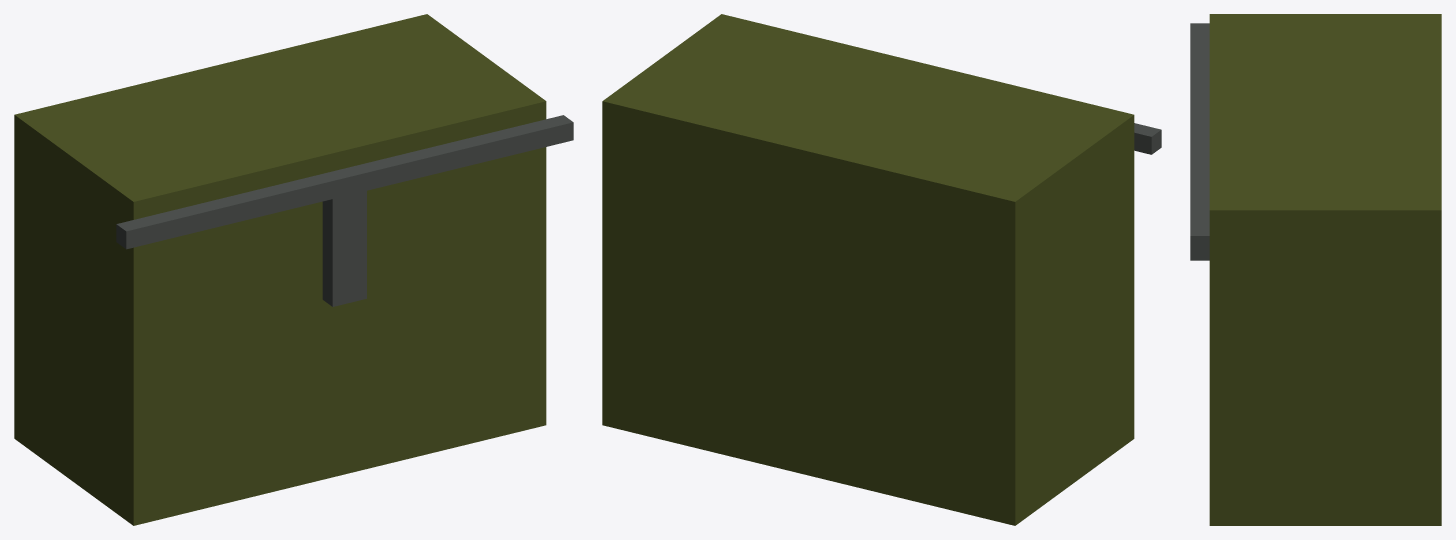
Rendered from apc_stowage_bin.glb.
3 views of the same model, side by side, from view 1: azimuth 30°, elevation 25°; view 2: azimuth 150°, elevation 25°; view 3: azimuth 270°, elevation 25° (orthographic). The views are drawn at different scales.
Parts seen in each view (by area): view 1: body:compound; view 2: body:compound; view 3: body:compound.
Boxes of the visible parts, x1,y1,x2,y2 form: body:compound: [14, 14, 573, 525]; body:compound: [602, 14, 1161, 525]; body:compound: [1190, 14, 1441, 525].
Size of the model in its own units: 0.8125 by 0.5625 by 0.4062.
